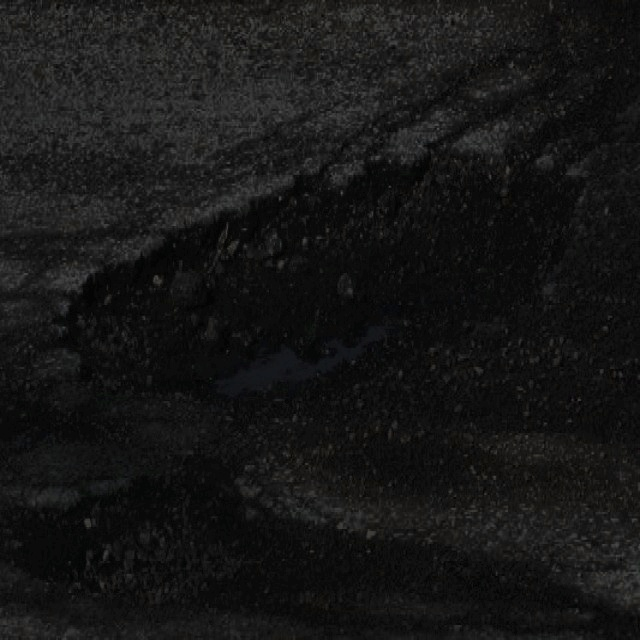Pothole: (62, 143, 582, 401), (48, 467, 252, 612)
